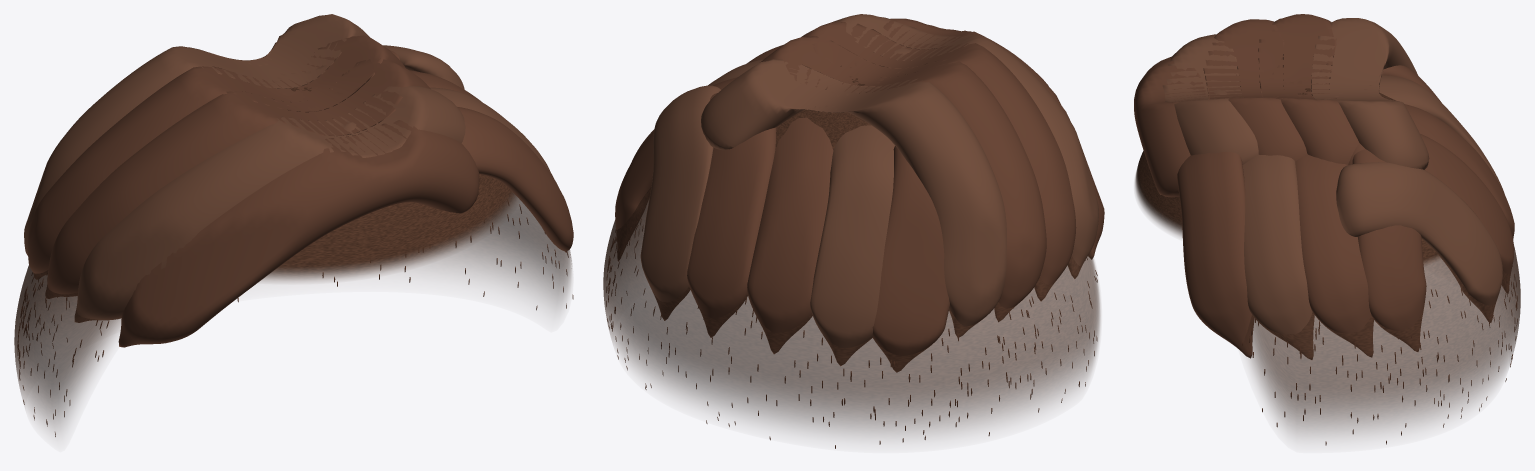
The model's file is Masculine-taper-cowboy251-hair.glb.
3 views of the same model, side by side, from view 1: azimuth 30°, elevation 25°; view 2: azimuth 150°, elevation 25°; view 3: azimuth 270°, elevation 25° (orthographic). The views are drawn at different scales.
Parts seen in each view (by area): view 1: 226 hair / Hair / main251.001, 226 hair / Hair / clipped grain251.001, 226 hair / Hair / close cut strokes251.001; view 2: 226 hair / Hair / main251.001, 226 hair / Hair / clipped grain251.001, 226 hair / Hair / close cut strokes251.001; view 3: 226 hair / Hair / main251.001, 226 hair / Hair / clipped grain251.001, 226 hair / Hair / close cut strokes251.001.
Part boxes in pixels (x1,y1,x2,y2): 226 hair / Hair / main251.001: [24, 14, 573, 347]; 226 hair / Hair / clipped grain251.001: [14, 84, 571, 432]; 226 hair / Hair / close cut strokes251.001: [17, 202, 573, 436]; 226 hair / Hair / main251.001: [615, 14, 1104, 372]; 226 hair / Hair / clipped grain251.001: [603, 78, 1100, 437]; 226 hair / Hair / close cut strokes251.001: [606, 219, 1097, 448]; 226 hair / Hair / main251.001: [1134, 14, 1514, 359]; 226 hair / Hair / clipped grain251.001: [1135, 88, 1520, 437]; 226 hair / Hair / close cut strokes251.001: [1242, 274, 1517, 445].
Bounding box in the file's own units: 0.9812 × 0.648 × 0.752.
4 materials, 1 textured.
